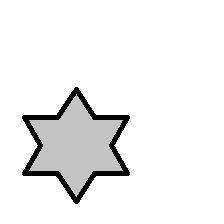star: (23, 87, 129, 204)
